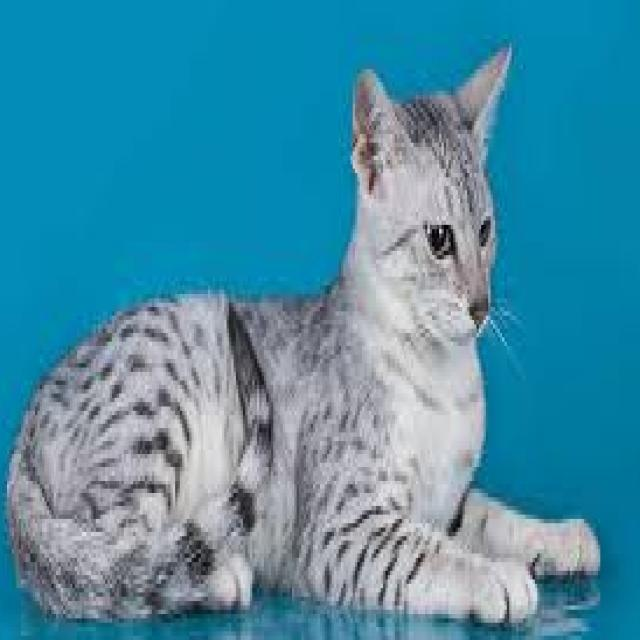Egyptian Mau: (2, 36, 604, 630)
